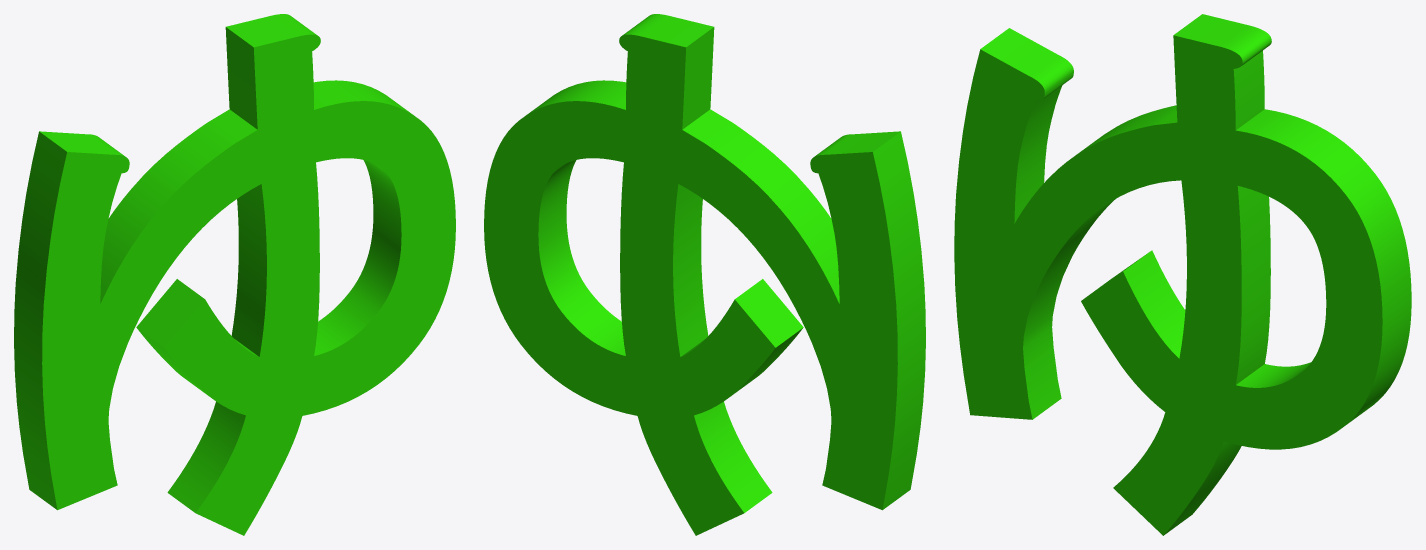
3 renders of one model, left to right at view 1: azimuth 30°, elevation 25°; view 2: azimuth 150°, elevation 25°; view 3: azimuth 330°, elevation 25°, orthographic. The views are drawn at different scales.
Parts seen in each view (by area): view 1: yu; view 2: yu; view 3: yu.
Part boxes in pixels (x1=…): yu: x1=14, y1=14, x2=455, y2=535; yu: x1=484, y1=14, x2=925, y2=535; yu: x1=954, y1=14, x2=1411, y2=535.
Size of the model in its own units: 83.16 by 93.36 by 9.79.
